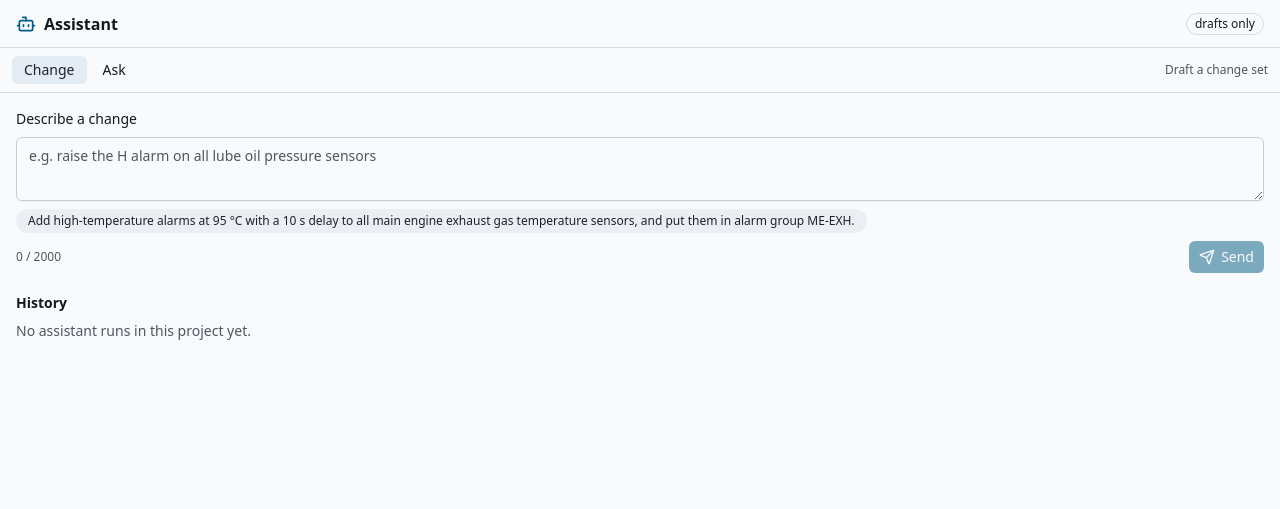
Scenario: Ask mode › notes removed unsupported sentences only when there are some
This screenshot has width=1280, height=509.
Click the tab "Ask" at (114, 70), box [90, 56, 138, 84]
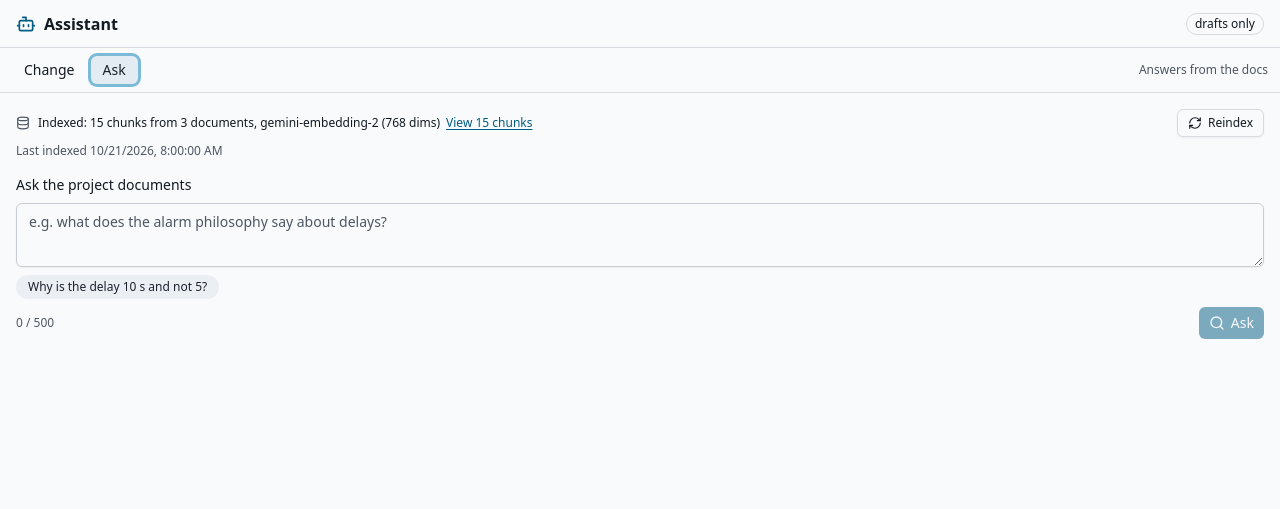
Type "why?" into the text box labelled "Ask the project documents" at (640, 235), box [16, 203, 1264, 267]
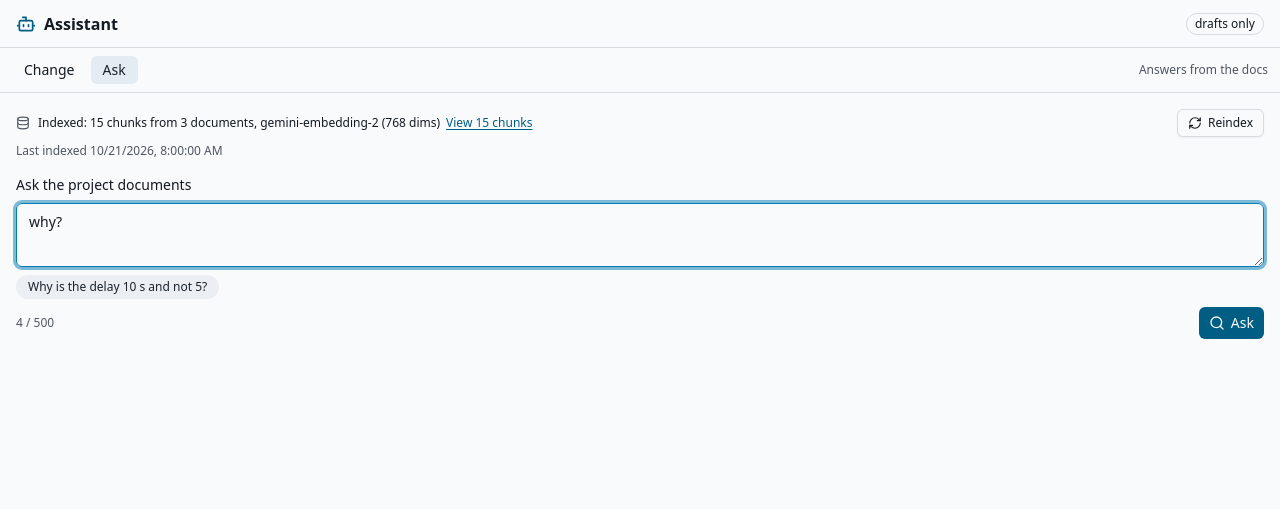
Click the button "Ask" at (1231, 323), box [1199, 307, 1264, 339]
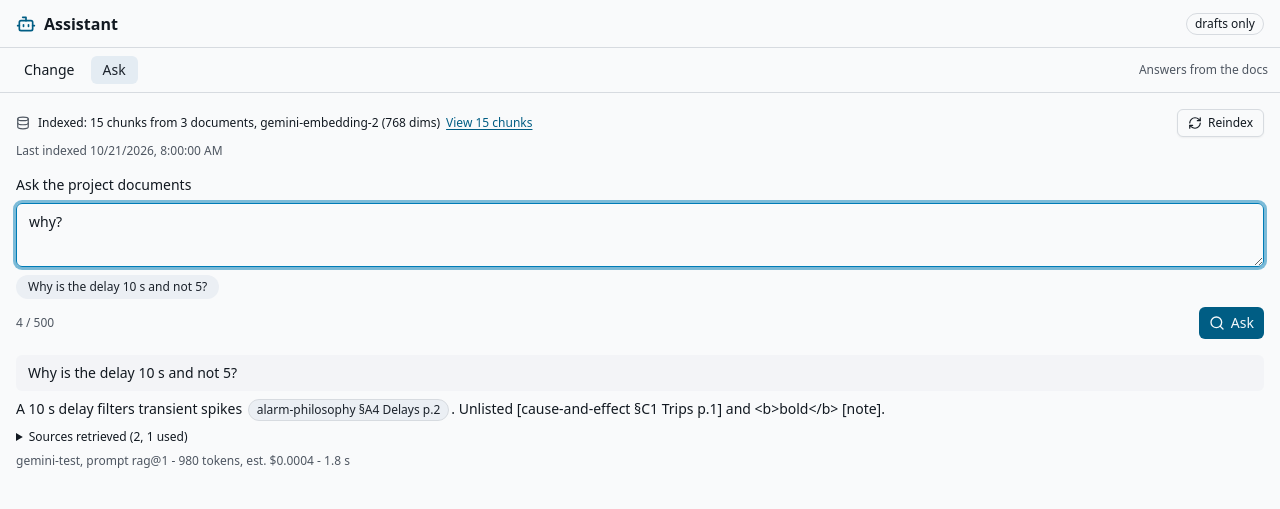
Expected: the element with test id "ask-answer" is shown, [16, 399, 885, 421]
Click the button "Ask" at (1231, 323), box [1199, 307, 1264, 339]
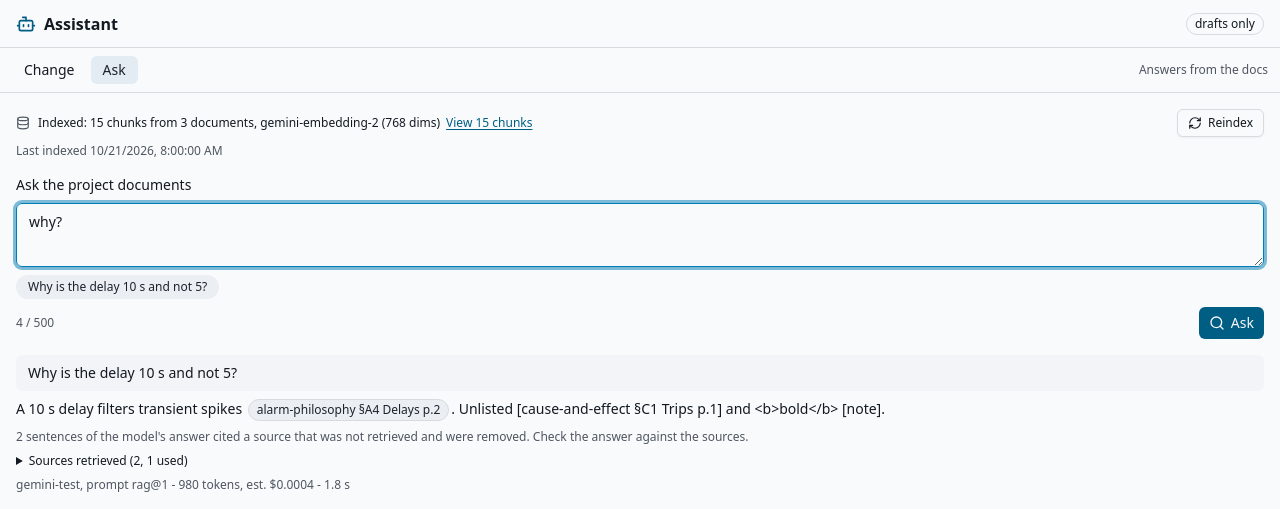
Expected: the text with test id "unsupported-removed" shows "2 sentences of the model", [16, 428, 748, 445]
